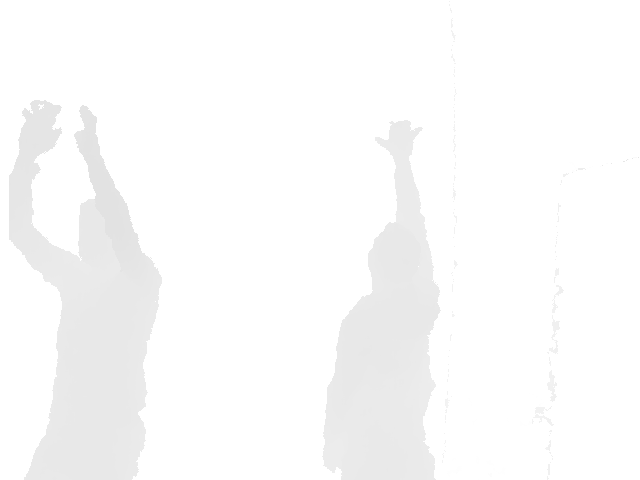hand: (17, 100, 63, 162), (375, 119, 423, 165), (73, 105, 100, 160)
head: (367, 222, 410, 301), (77, 199, 122, 273)
person: (10, 100, 163, 479), (321, 120, 442, 479)
